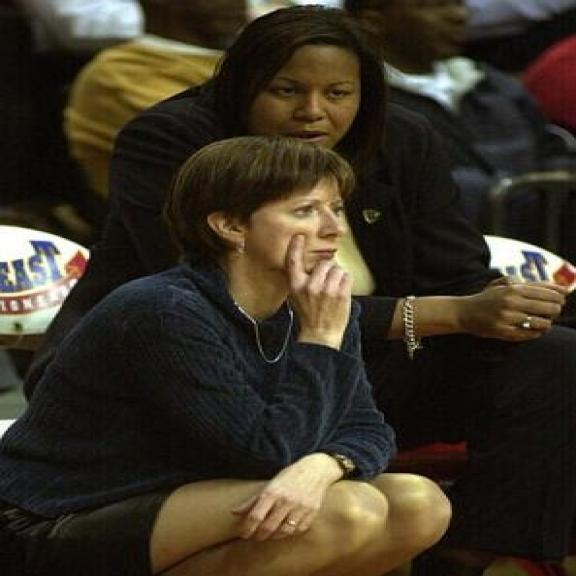face: (209, 168, 360, 283), (245, 48, 366, 152)
